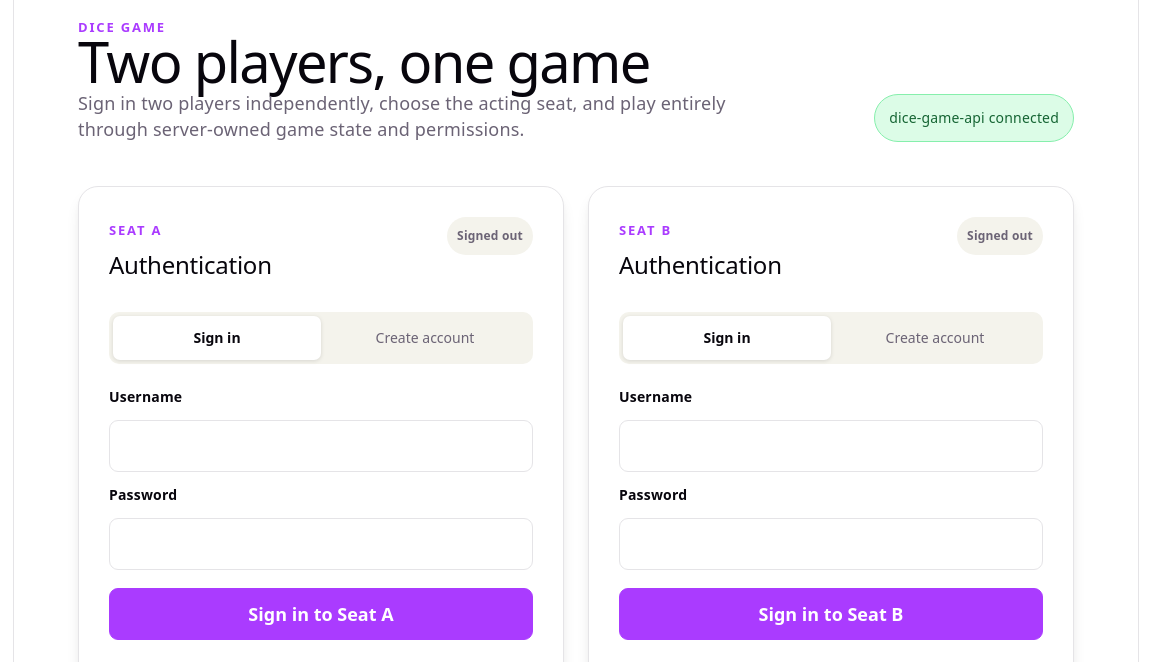
Test: App › clears only the rejected seat after a protected request returns 401
Type "SeatAlpha" into the 1st field labelled "Username" at (321, 446), box [109,420,533,472]
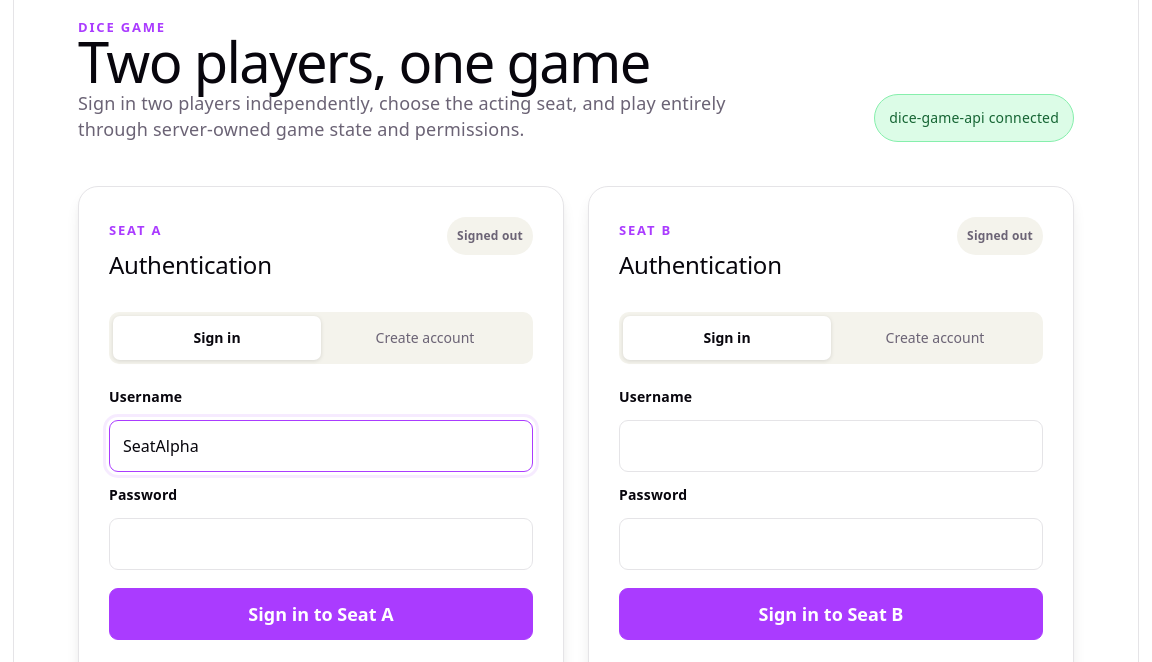
Type "private password" into the 1st password field labelled "Password" at (321, 544), box [109,518,533,570]
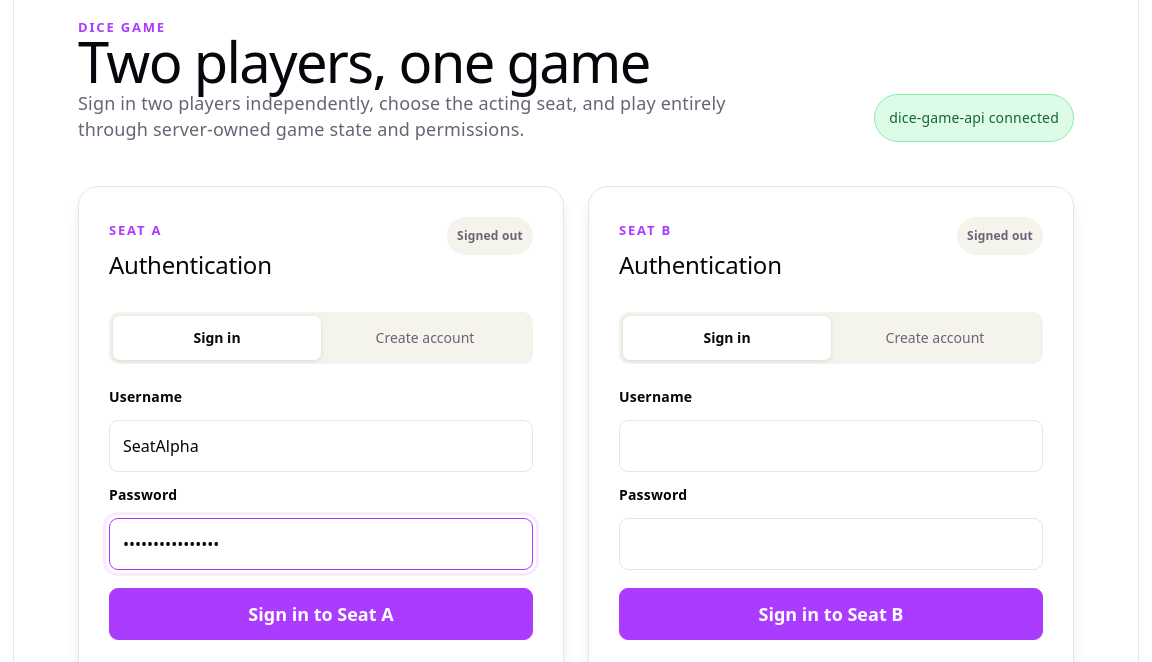
Click the button "Sign in to Seat A" at (321, 614), box [109,588,533,640]
(page scrolled)
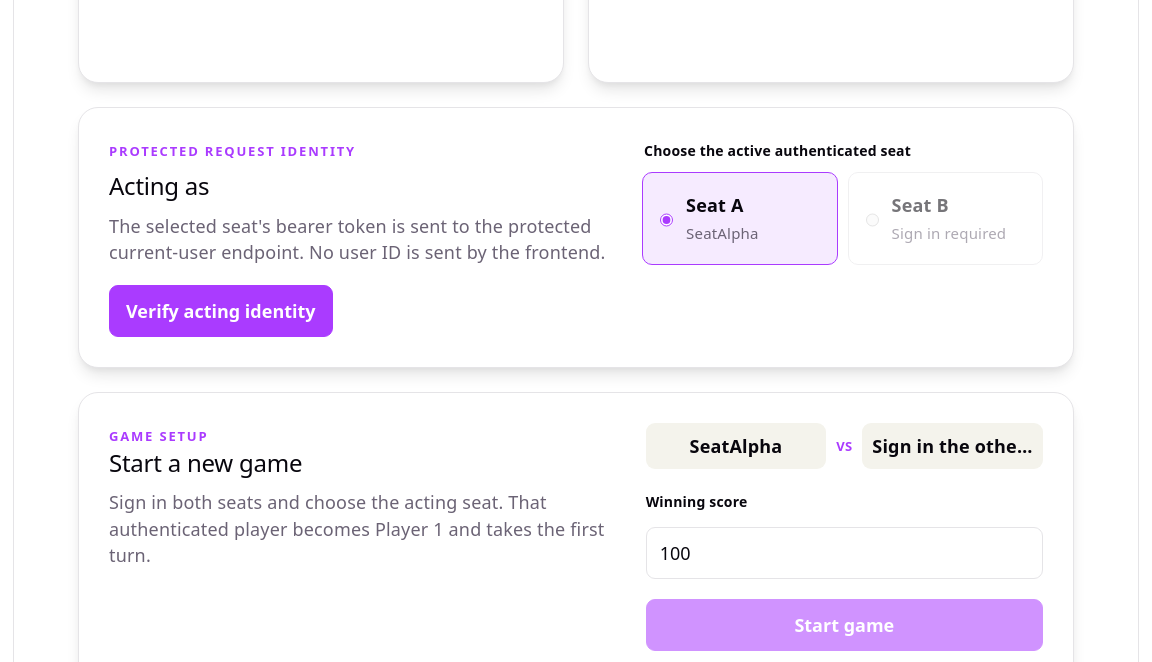
Click the button "Verify acting identity" at (221, 311), box [109,285,333,337]
(page scrolled)
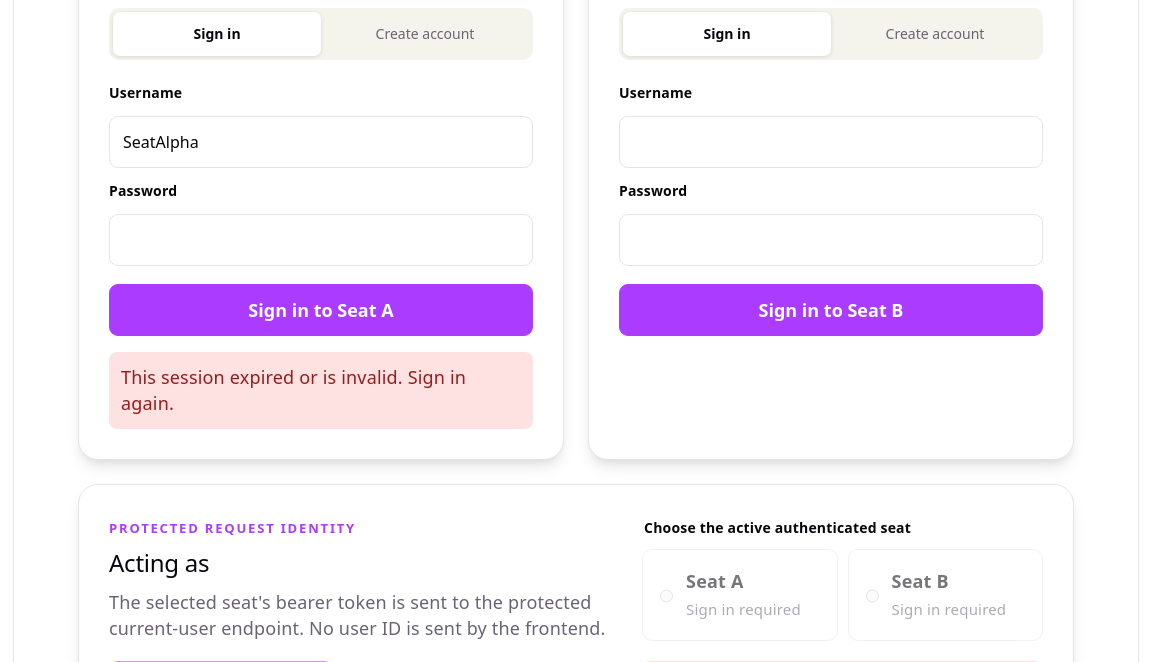
Now the text "This session expired or is invalid. Sign in again." is shown, box [109,352,533,428]
Now the button "Sign in to Seat A" is shown, box [109,284,533,336]
